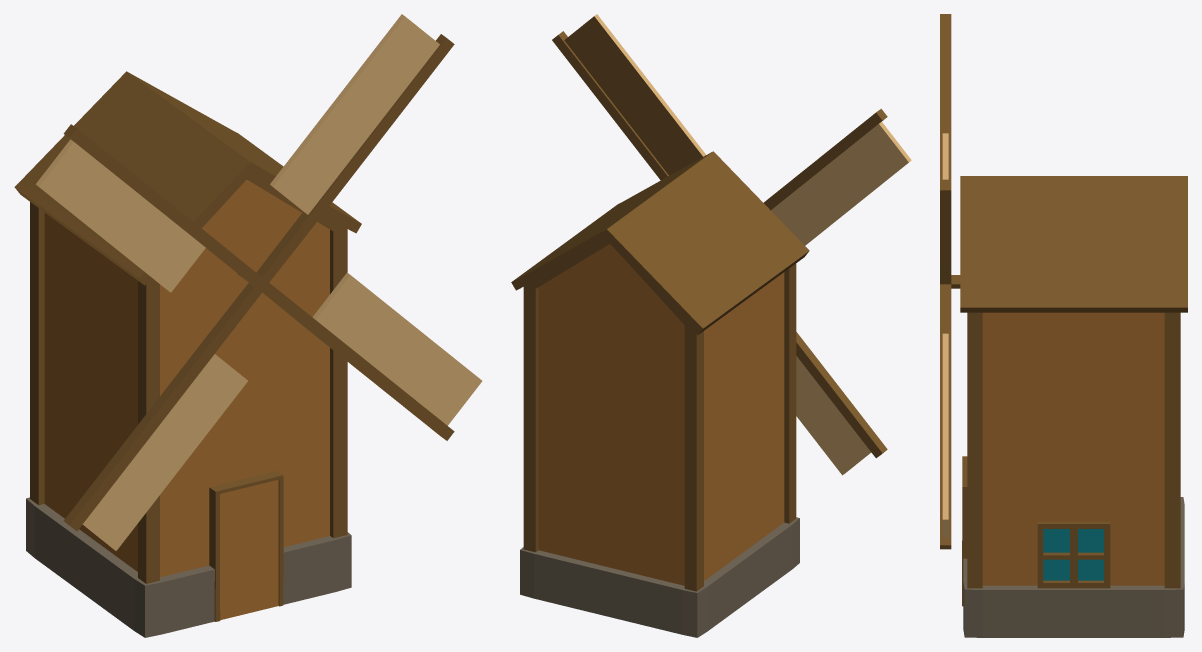
File: Mill.fbx
The picture shows the model from 3 angles, left to right: view 1: azimuth 30°, elevation 25°; view 2: azimuth 150°, elevation 25°; view 3: azimuth 270°, elevation 25°; orthographic projection. The views are drawn at different scales.
Visible parts, largest first — view 1: Cube.011, Cube.001; view 2: Cube.011, Cube.001; view 3: Cube.011, Cube.001.
Boxes of the visible parts, x1,y1,x2,y2 form: Cube.011: (14,71,361,637); Cube.001: (35,14,482,550); Cube.011: (511,151,809,637); Cube.001: (552,14,911,475); Cube.011: (951,176,1187,637); Cube.001: (940,14,951,549).
Size of the model in its own units: 4408 by 5410 by 2325.
